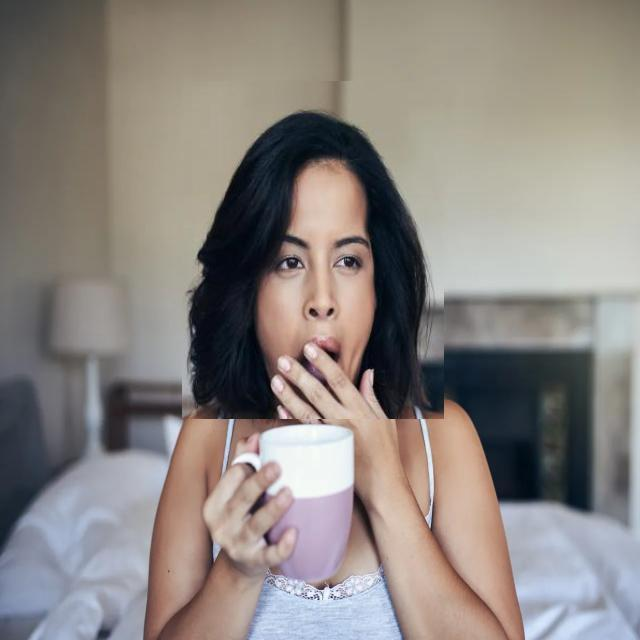Yawn: (182, 82, 444, 420)
